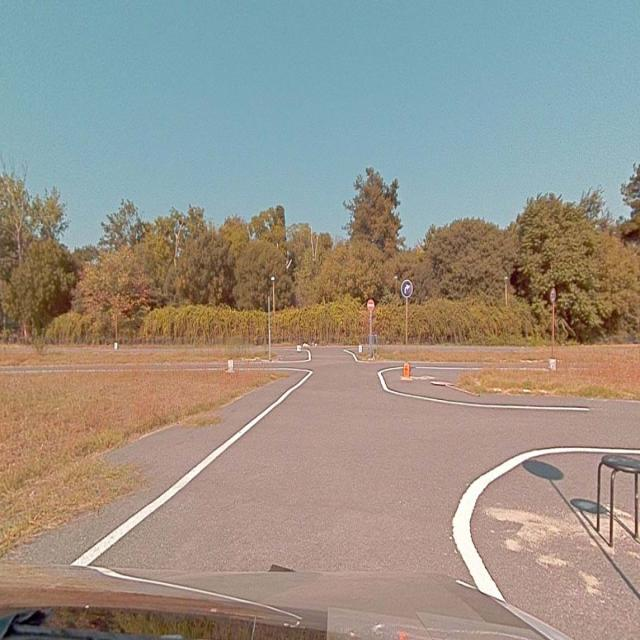girisyok: (368, 299, 374, 310)
sag: (402, 281, 412, 296)
